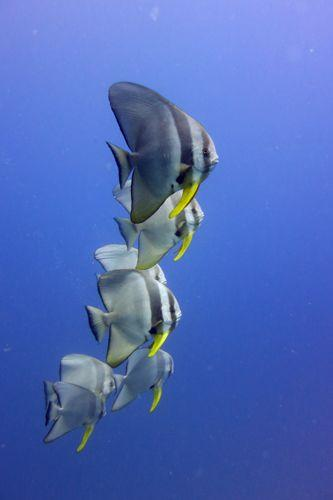fish: (105, 80, 219, 224), (84, 262, 182, 368), (94, 182, 204, 272), (41, 352, 124, 453), (110, 339, 174, 414)
